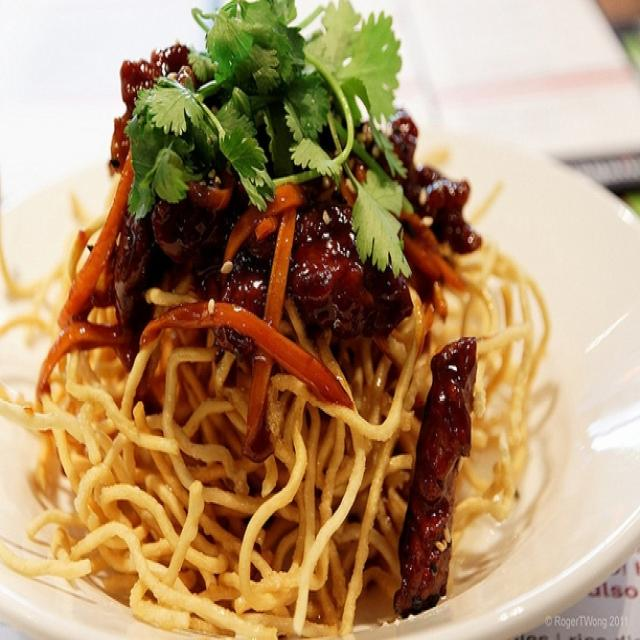面条主食: (22, 5, 621, 622)
